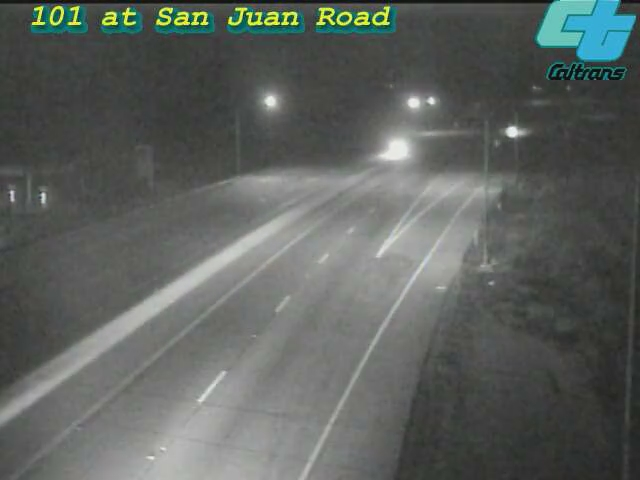vehicle: (370, 124, 420, 174), (488, 106, 538, 156)
